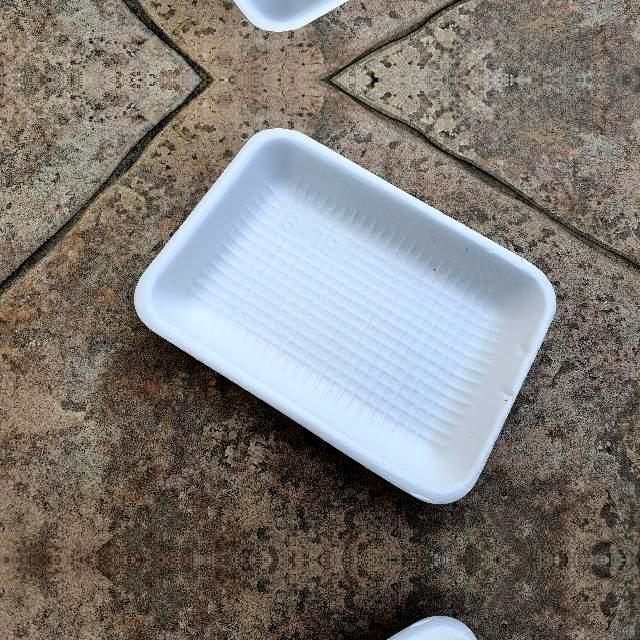Styrofoam: (132, 127, 558, 505), (134, 128, 557, 504)
